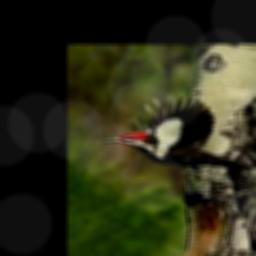Woodpecker: (99, 93, 256, 173)
